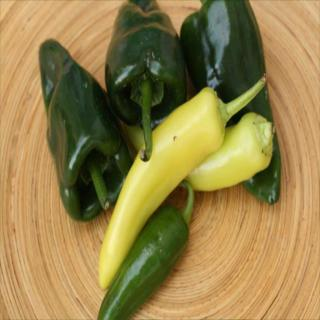Bell pepper: (182, 2, 281, 208), (36, 39, 134, 225), (106, 1, 188, 161)
